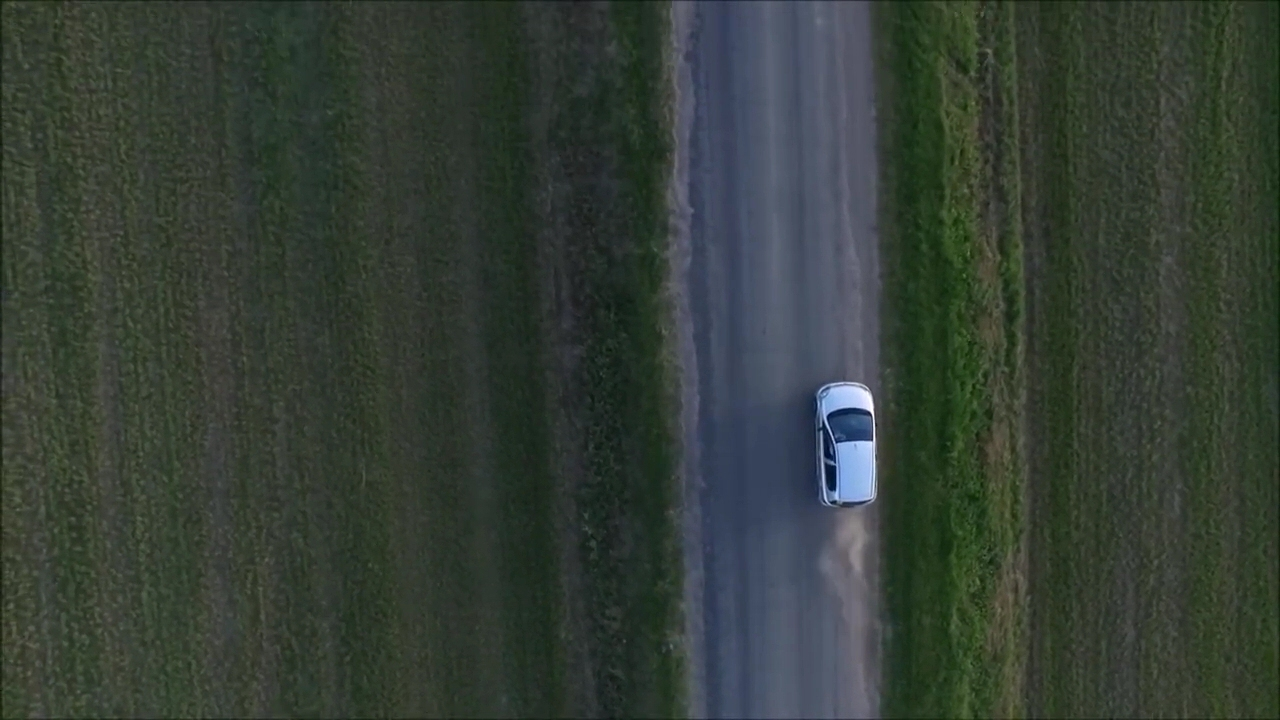araba: (811, 381, 878, 506)
